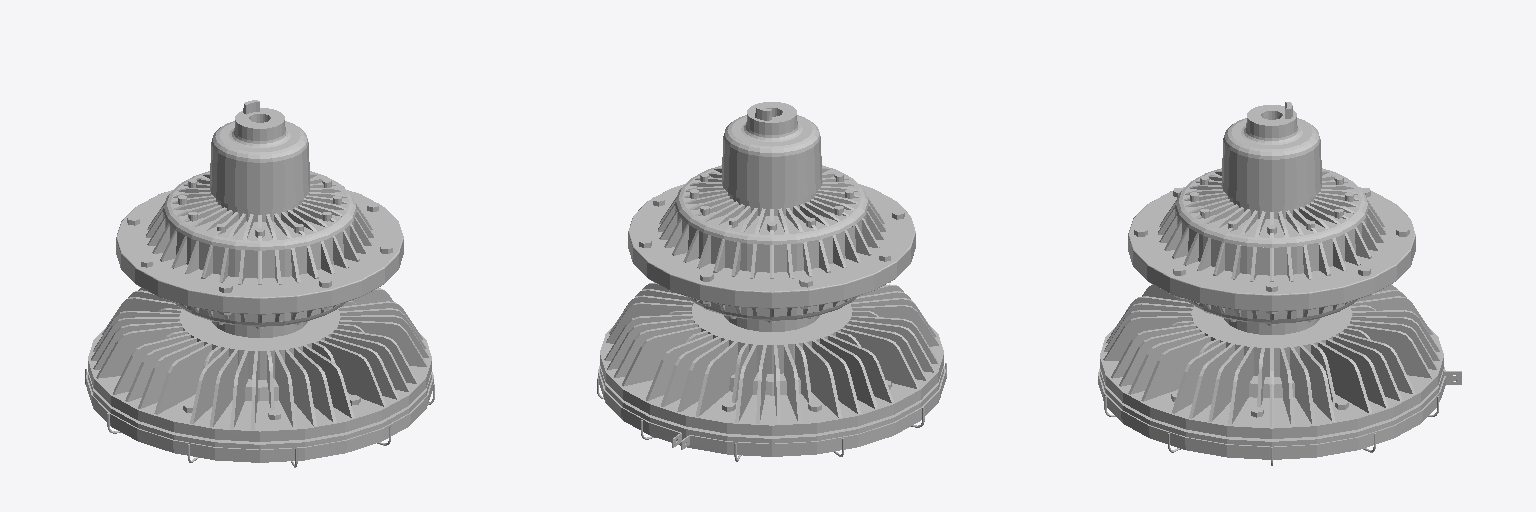
The model's file is EVLL13LCA21_UNV1.obj.
3 renders of one model, left to right at view 1: azimuth 30°, elevation 25°; view 2: azimuth 150°, elevation 25°; view 3: azimuth 270°, elevation 25°, orthographic.
Size of the model in its own units: 16.35 by 15.41 by 16.91.